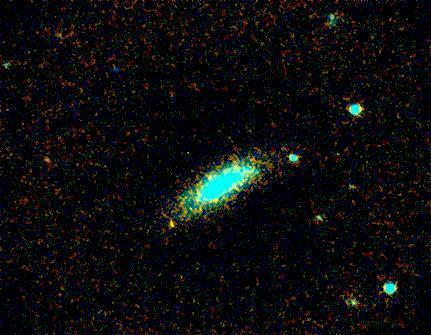star: (32, 144, 62, 174)
